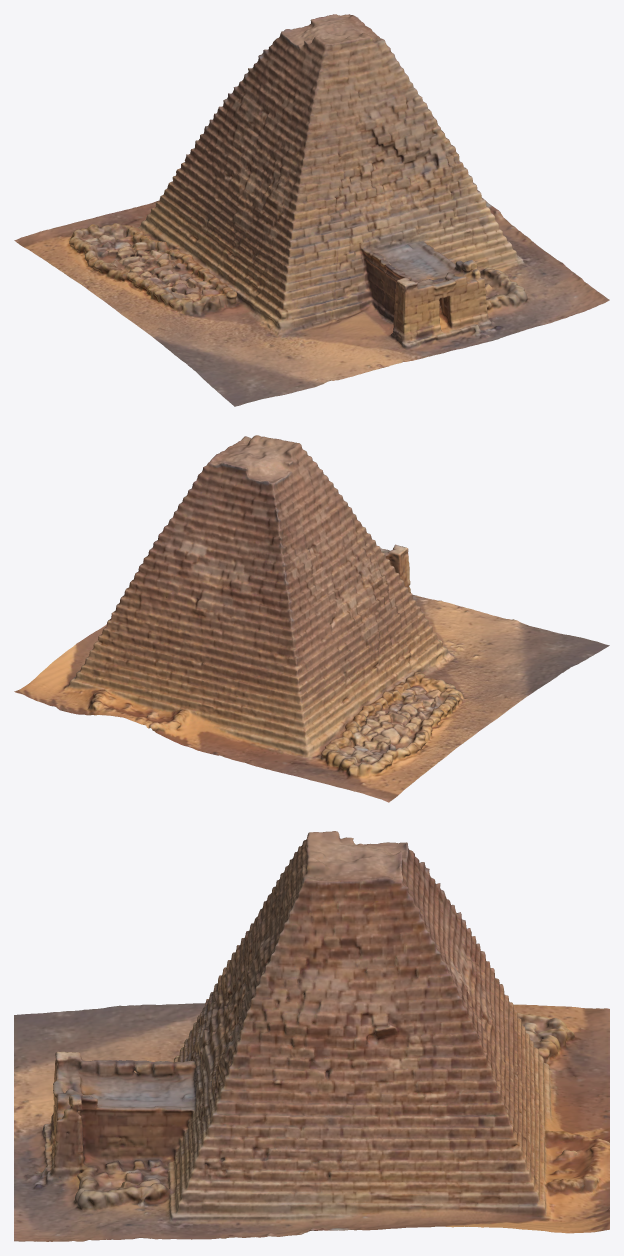
3 renders of one model, top to bottom at view 1: azimuth 30°, elevation 25°; view 2: azimuth 150°, elevation 25°; view 3: azimuth 270°, elevation 25°, orthographic. The views are drawn at different scales.
Parts seen in each view (by area): view 1: SDN_001_M1_N9_LP; view 2: SDN_001_M1_N9_LP; view 3: SDN_001_M1_N9_LP.
Boxes of the visible parts, x1,y1,x2,y2 form: SDN_001_M1_N9_LP: [14, 14, 609, 406]; SDN_001_M1_N9_LP: [14, 435, 609, 802]; SDN_001_M1_N9_LP: [14, 831, 609, 1241].
Size of the model in its own units: 18.86 by 11.24 by 19.23.
Materials: 1 (1 with a texture image).
